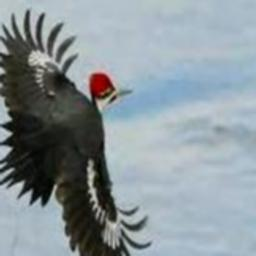Woodpecker: (0, 6, 153, 256)
